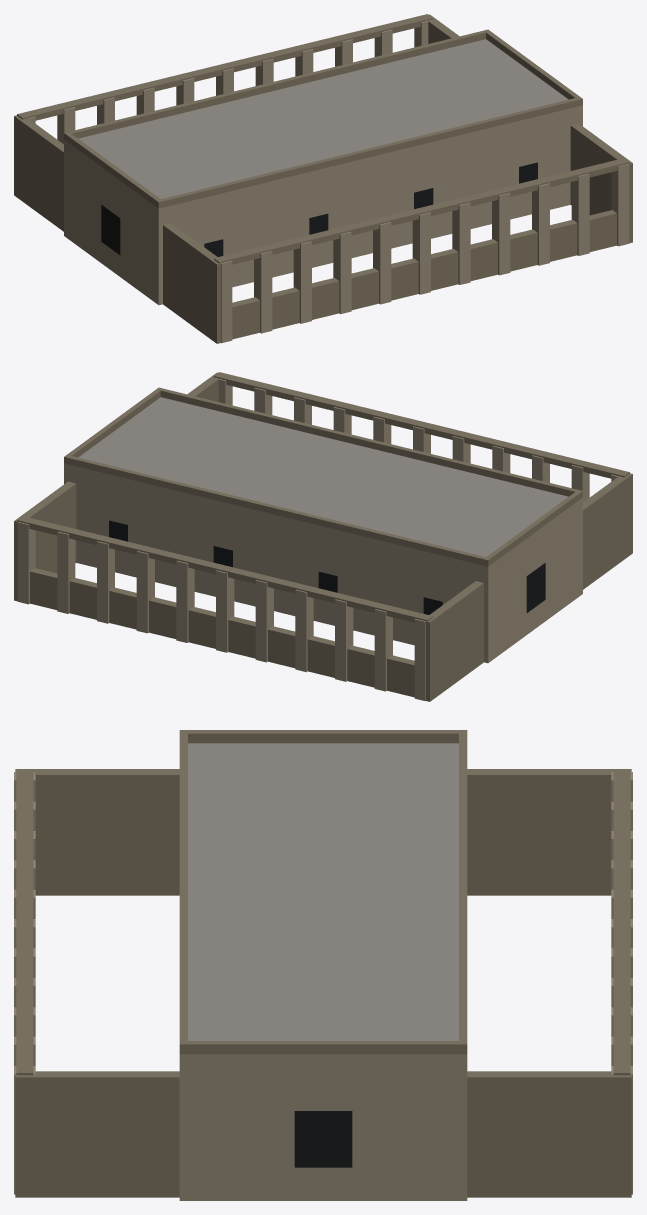
Rendered from zoo-cat-house.glb.
3 views of the same model, one above another, from view 1: azimuth 30°, elevation 25°; view 2: azimuth 150°, elevation 25°; view 3: azimuth 270°, elevation 25° (orthographic). The views are drawn at different scales.
Parts seen in each view (by area): view 1: zoo_cat_house; view 2: zoo_cat_house; view 3: zoo_cat_house.
Part boxes in pixels (x1,y1,x2,y2): zoo_cat_house: (14,14,632,343); zoo_cat_house: (14,372,632,701); zoo_cat_house: (14,730,632,1200).
Bounding box in the file's own units: 31.08 × 7.19 × 25.81.
